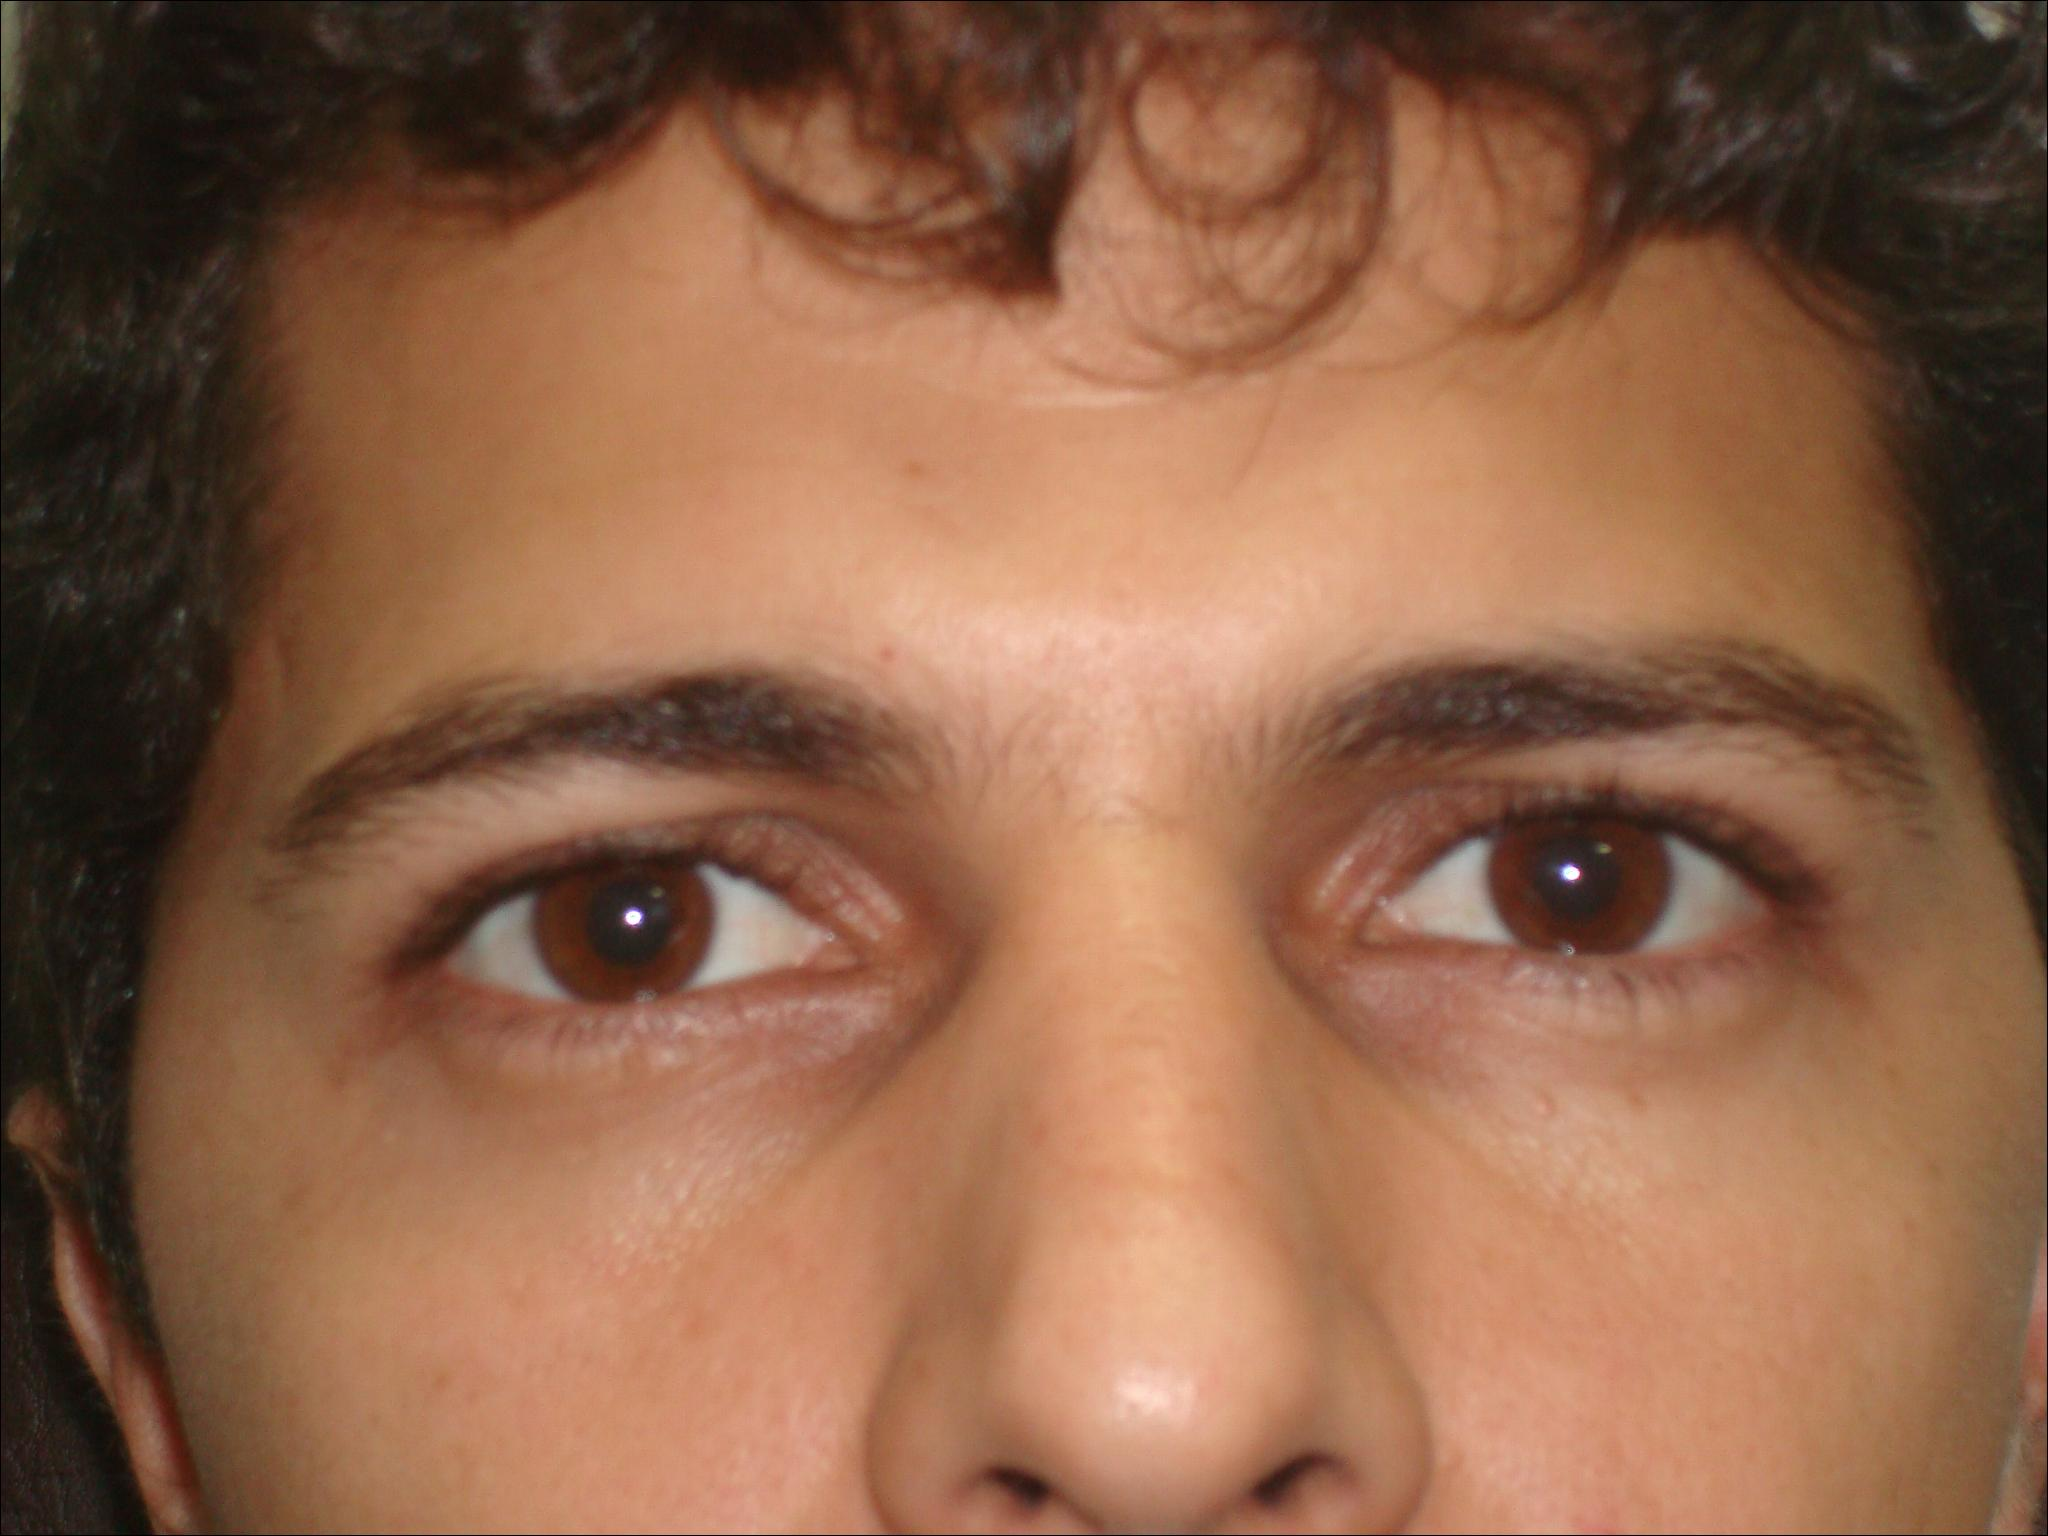flash: (616, 899, 650, 936), (1555, 857, 1588, 889)
limbo: (529, 833, 724, 1007), (1482, 795, 1666, 962)
